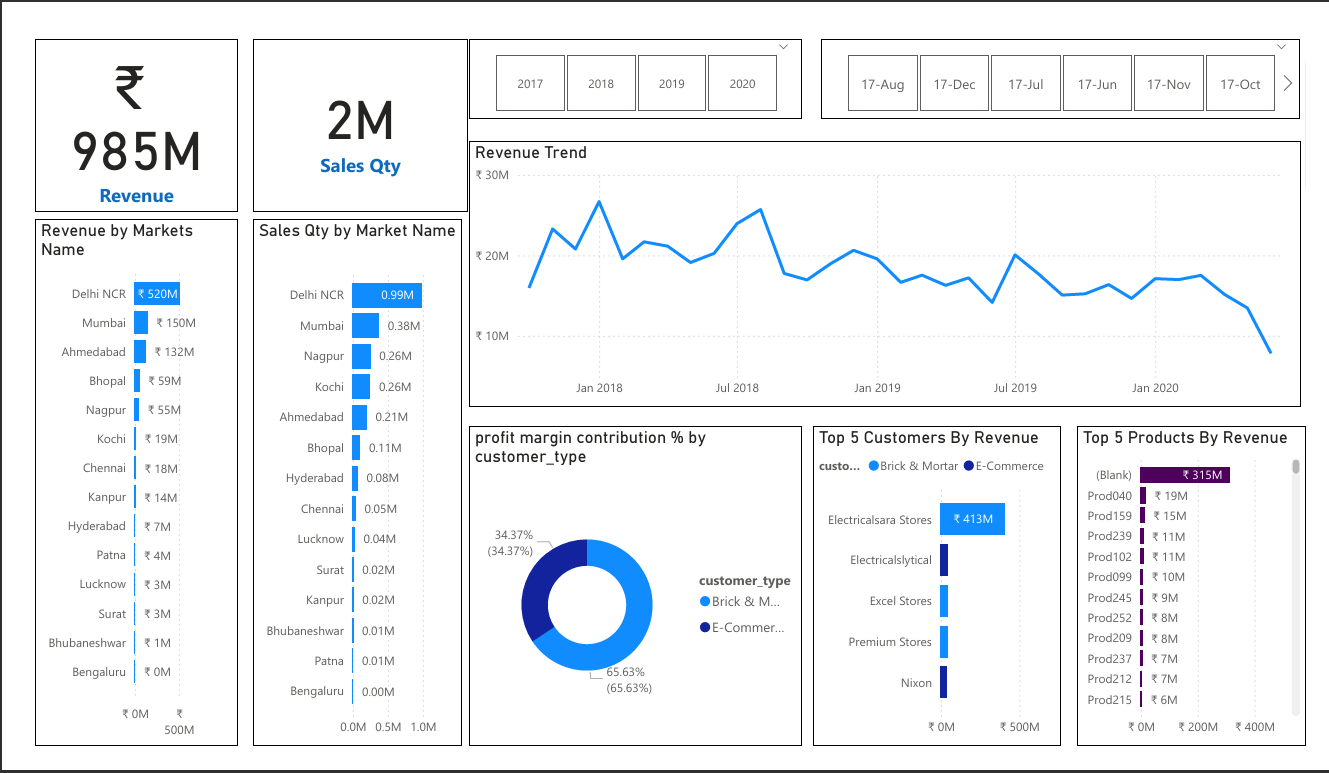

The page's visual inventory and layout, read from the dashboard file:
{"tool":"powerbi","page":{"name":"Key insights","canvas":[1280,720],"ordinal":0},"visuals":[{"type":"card","fields":{"Values":["BaseMeasures.Revenue"]},"box":[8.6,12.9,203.6,173.4],"z":0},{"type":"card","fields":{"Values":["BaseMeasures.sales Qty"]},"box":[226.8,12.9,214.8,173.4],"z":1000},{"type":"barChart","title":"Sales Qty by Market Name ","fields":{"Y":["BaseMeasures.Sales Qty"],"Category":["sales markets.markets_name"]},"box":[226.8,193.2,209.6,527],"z":2000},{"type":"slicer","fields":{"Values":["sales date.year"]},"box":[443.3,12.9,332.9,80.2],"z":3000},{"type":"slicer","fields":{"Values":["sales date.date_yy_mmm"]},"box":[795.2,12.7,479.2,80.3],"z":4000},{"type":"barChart","title":"Revenue by Markets Name","fields":{"Y":["BaseMeasures.Revenue"],"Category":["sales markets.markets_name"]},"box":[8.6,193.2,203.6,527],"z":5000},{"type":"barChart","title":"Top 5 Customers By Revenue","fields":{"Category":["sales customers.custmer_name"],"Y":["BaseMeasures.Revenue"],"Series":["sales customers.customer_type"]},"box":[786.6,400.2,248.4,320],"z":6000},{"type":"barChart","title":"Top 5 Products  By Revenue","fields":{"Y":["BaseMeasures.Revenue"],"Category":["sales products.product_code"]},"box":[1051.4,400.2,228.6,320],"z":7000},{"type":"lineChart","title":"Revenue Trend ","fields":{"Y":["BaseMeasures.Revenue"],"Category":["sales date.cy_date.Variation.Date Hierarchy.Year","sales date.cy_date.Variation.Date Hierarchy.Quarter","sales date.cy_date.Variation.Date Hierarchy.Month","sales date.cy_date.Variation.Date Hierarchy.Day"]},"box":[443.3,114.7,831.5,266.5],"z":8000},{"type":"donutChart","fields":{"Category":["sales customers.customer_type"],"Y":["BaseMeasures.profit margin contribution %"]},"box":[443.3,400.2,332.9,320],"z":9000}]}

Visuals, with their boxes on the page's 1280x720 design canvas (x1, y1, x2, y2). These are canvas units, not pixel positions in the 1329x773 screenshot, which may show the page scaled, cropped or inside an application window:
card - BaseMeasures.Revenue: bbox=(9, 13, 212, 186)
card - BaseMeasures.sales Qty: bbox=(227, 13, 442, 186)
"Sales Qty by Market Name " barChart: bbox=(227, 193, 436, 720)
slicer - sales date.year: bbox=(443, 13, 776, 93)
slicer - sales date.date_yy_mmm: bbox=(795, 13, 1274, 93)
"Revenue by Markets Name" barChart: bbox=(9, 193, 212, 720)
"Top 5 Customers By Revenue" barChart: bbox=(787, 400, 1035, 720)
"Top 5 Products  By Revenue" barChart: bbox=(1051, 400, 1280, 720)
"Revenue Trend " lineChart: bbox=(443, 115, 1275, 381)
donutChart - sales customers.customer_type x BaseMeasures.profit margin contribution %: bbox=(443, 400, 776, 720)
